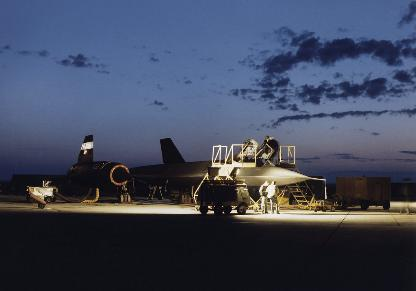Rafale: (10, 134, 326, 203)
